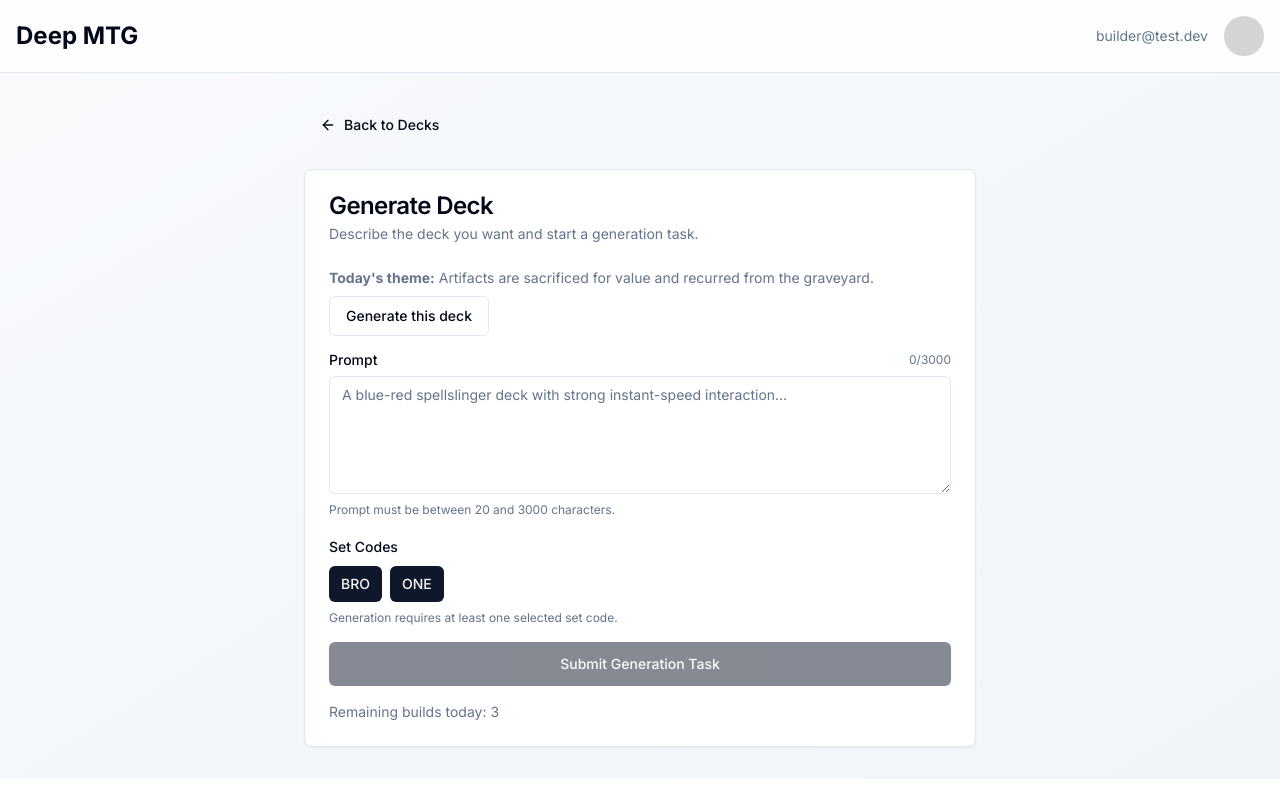
Test: GenerateDeckPage › shows daily theme and fills prompt when clicking generate this deck
Click the button "Generate this deck".
click(409, 316)  # box [329,296,489,336]
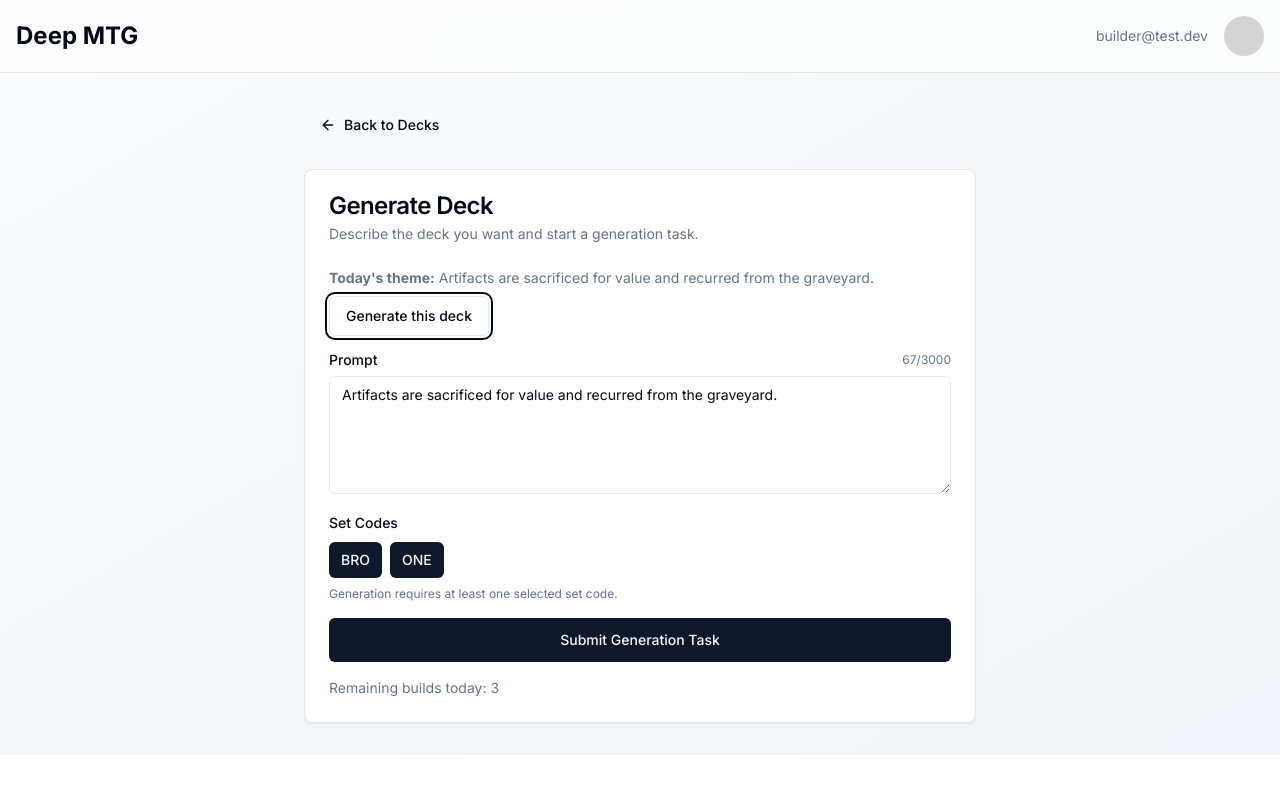
expect the text box labelled "Prompt" holds "Artifacts are sacrificed for value and recurred from the graveyard.": met, box [329,376,951,494]
